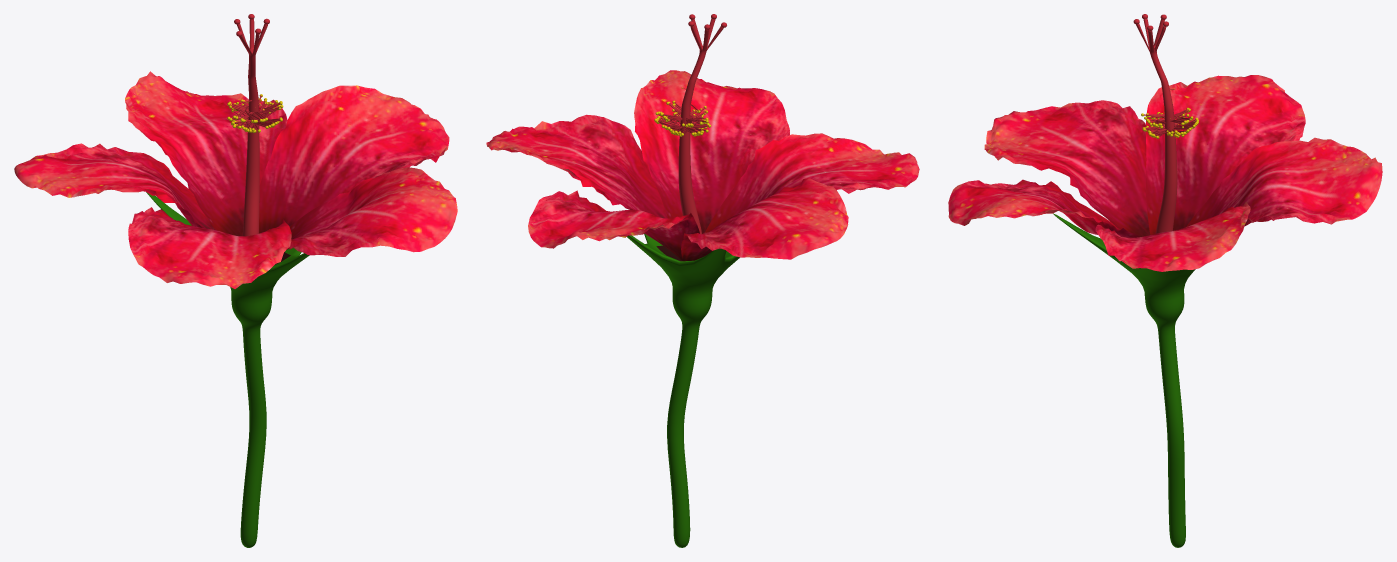
File: Hibiscus.fbx
The picture shows the model from 3 angles, left to right: view 1: azimuth 30°, elevation 25°; view 2: azimuth 150°, elevation 25°; view 3: azimuth 270°, elevation 25°; orthographic projection. The views are drawn at different scales.
Parts seen in each view (by area): view 1: Circle, Calyx, Cylinder.001, Cylinder; view 2: Circle, Calyx, Cylinder, Cylinder.001; view 3: Circle, Calyx, Cylinder, Cylinder.001.
Part boxes in pixels (bbox=[...]): Circle: bbox=[14, 71, 457, 288]; Calyx: bbox=[146, 192, 309, 547]; Cylinder.001: bbox=[234, 14, 269, 236]; Cylinder: bbox=[234, 14, 269, 235]; Circle: bbox=[486, 70, 919, 261]; Calyx: bbox=[627, 233, 739, 547]; Cylinder: bbox=[678, 14, 726, 230]; Cylinder.001: bbox=[678, 14, 726, 234]; Circle: bbox=[948, 75, 1382, 271]; Calyx: bbox=[1053, 213, 1195, 547]; Cylinder: bbox=[1133, 15, 1177, 232]; Cylinder.001: bbox=[1133, 14, 1176, 233].
Bounding box in the file's own units: 4.93 × 6.6 × 4.96.
Materials: 5 (1 with a texture image).
